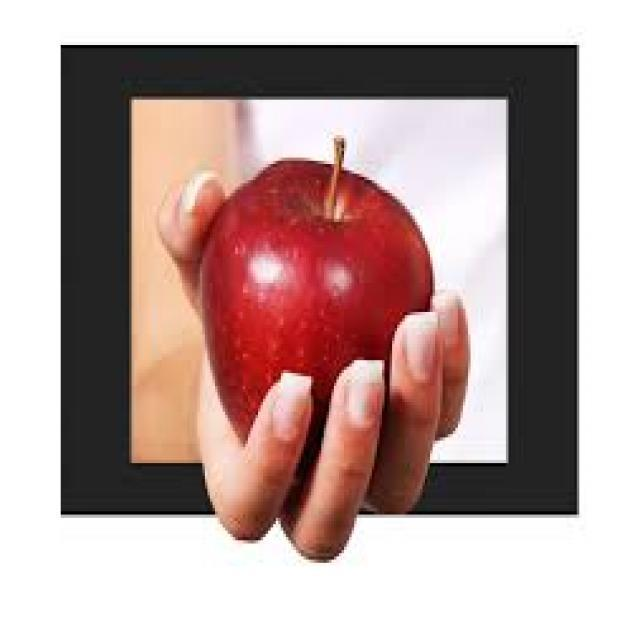Fresh Apple: (198, 162, 437, 426)
